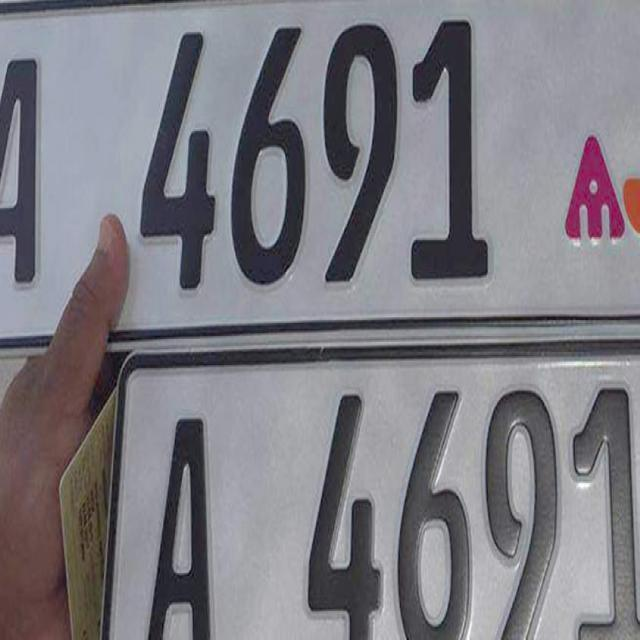License_Plate: (0, 0, 640, 338), (115, 342, 640, 640)
